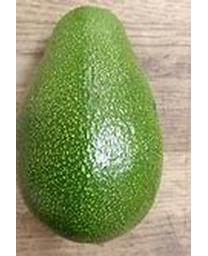avocado: (17, 5, 163, 242)
